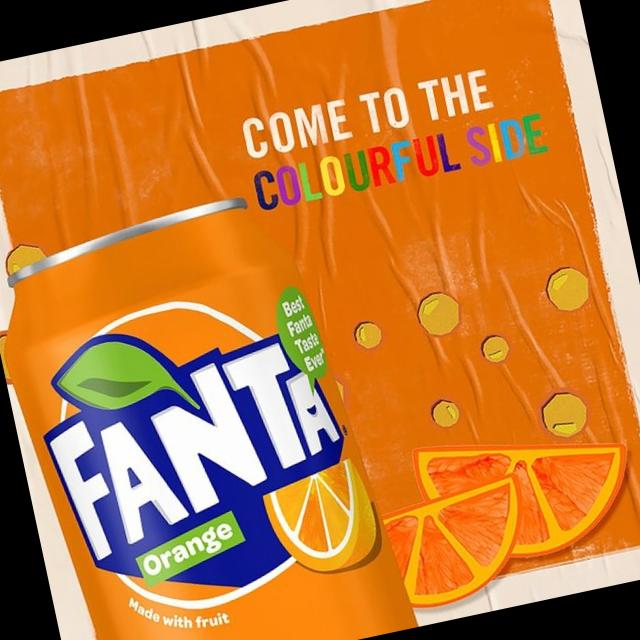fanta: (0, 187, 421, 640)
